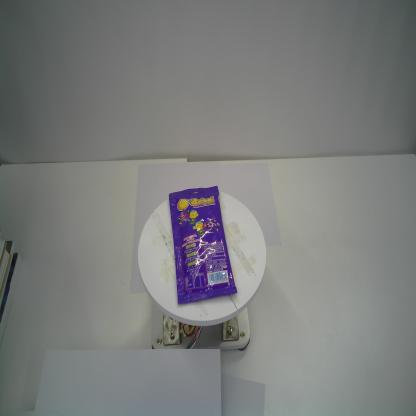Candy: (168, 184, 238, 305)
